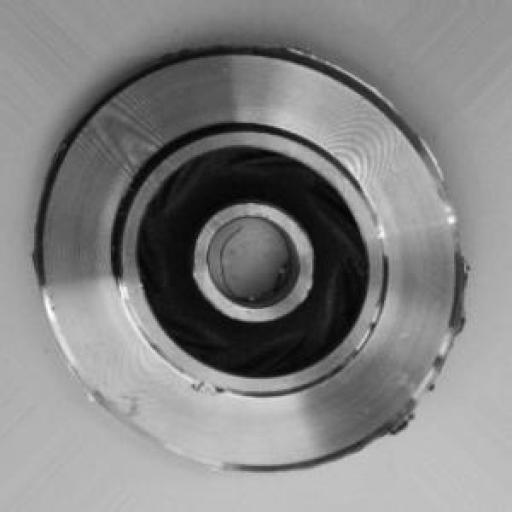defect: (33, 19, 481, 475)
